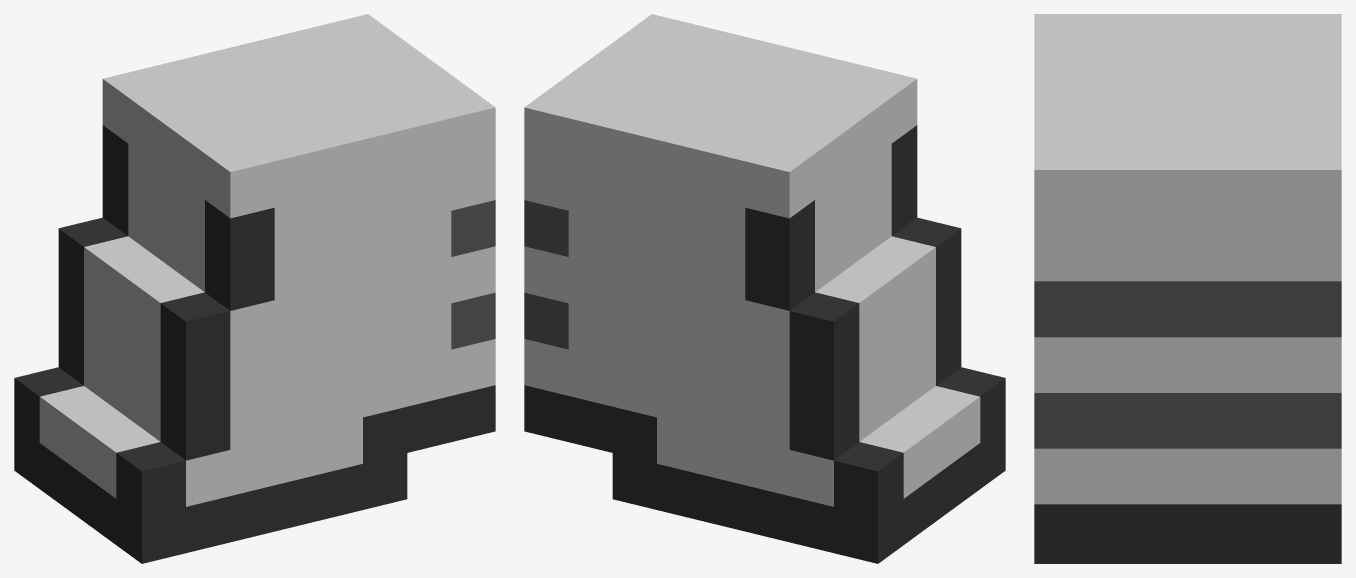
Rendered from Punisher-1.obj.
3 views of the same model, side by side, from view 1: azimuth 30°, elevation 25°; view 2: azimuth 150°, elevation 25°; view 3: azimuth 270°, elevation 25° (orthographic). The views are drawn at different scales.
Bounding box in the file's own units: 0.8 × 0.8 × 0.5.
1 material, 1 textured.
